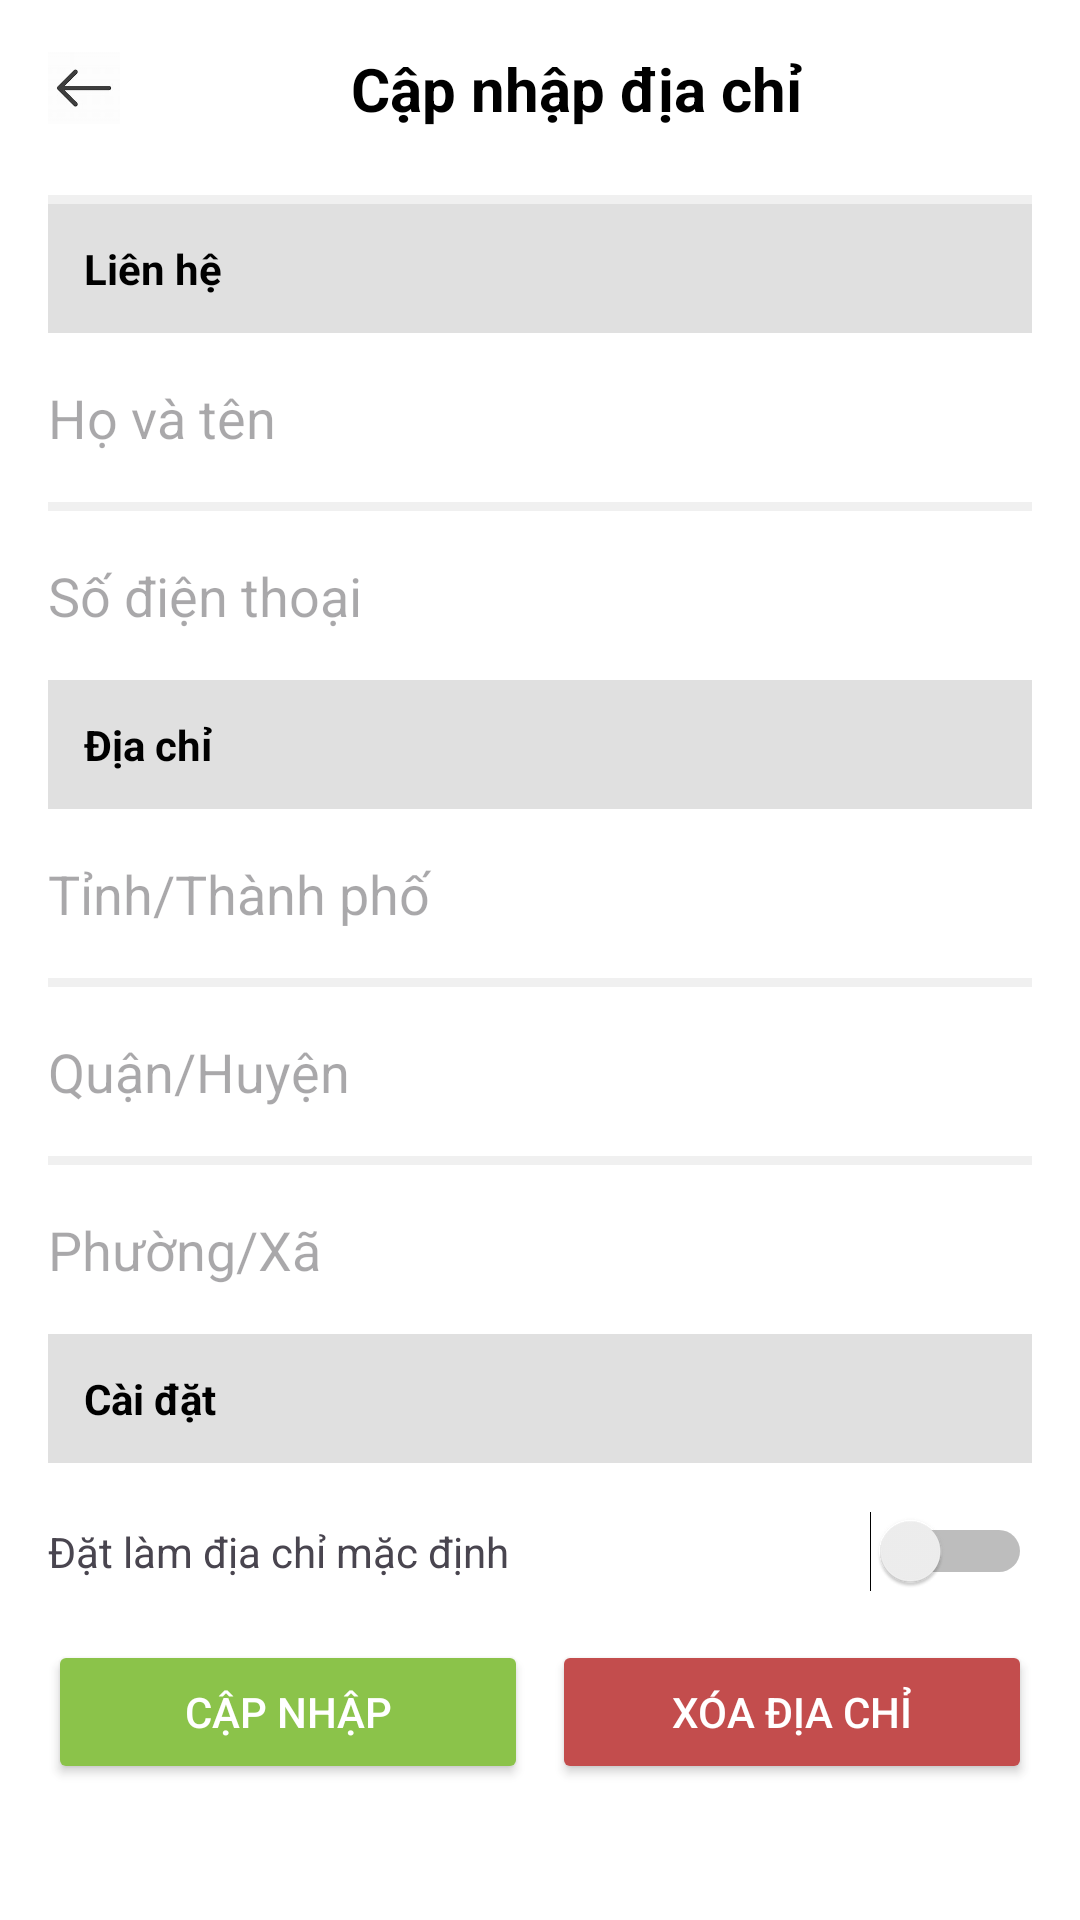

Named icons in this screenshot (1080w x 1920h) and their centers, point (x, y):
arrow back: point (84, 88)
